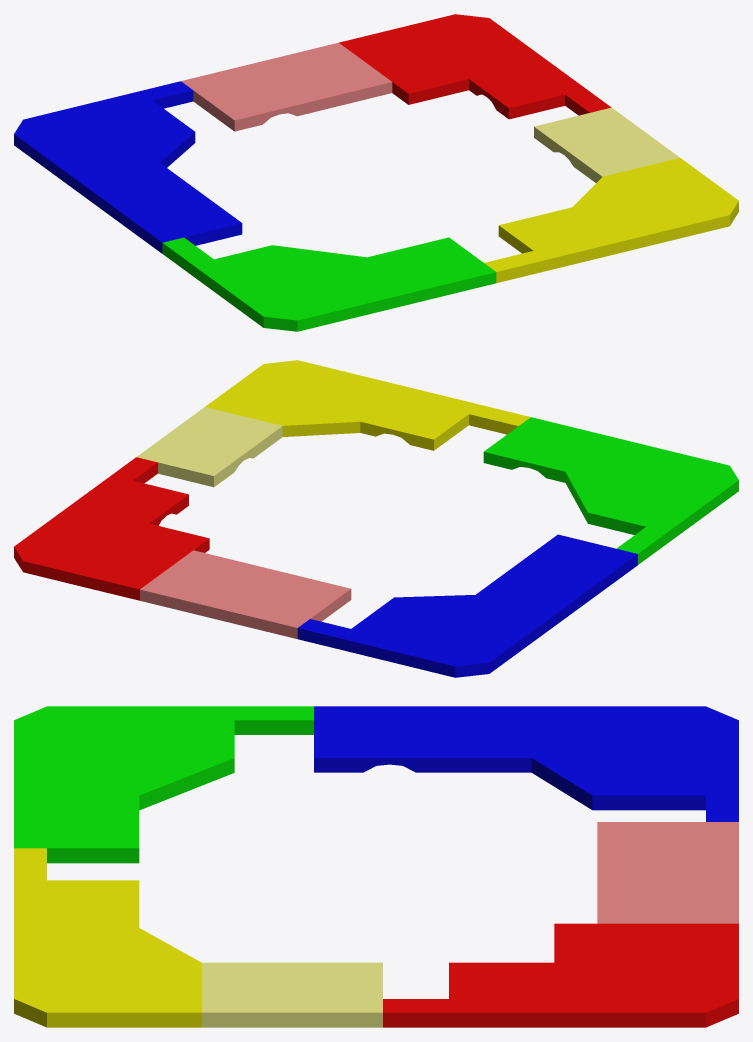
The model's file is CENARIO_TETO_01.fbx.
The picture shows the model from 3 angles, top to bottom: view 1: azimuth 30°, elevation 25°; view 2: azimuth 150°, elevation 25°; view 3: azimuth 270°, elevation 25°; orthographic projection. The views are drawn at different scales.
Visible parts, largest first — view 1: Teto_P4, Teto_P2, Teto_P1, Teto_P3, Teto_P3A, Teto_P1A; view 2: Teto_P4, Teto_P2, Teto_P3, Teto_P1, Teto_P3A, Teto_P1A; view 3: Teto_P4, Teto_P2, Teto_P3, Teto_P1, Teto_P3A, Teto_P1A.
Boxes of the visible parts, left/top/right/bottom form: Teto_P4: left=14, top=81, right=242, bottom=253; Teto_P2: left=162, top=237, right=496, bottom=331; Teto_P1: left=484, top=158, right=738, bottom=283; Teto_P3: left=339, top=14, right=611, bottom=119; Teto_P3A: left=181, top=42, right=392, bottom=131; Teto_P1A: left=534, top=107, right=679, bottom=182; Teto_P4: left=297, top=534, right=637, bottom=677; Teto_P2: left=483, top=417, right=738, bottom=564; Teto_P3: left=14, top=457, right=209, bottom=600; Teto_P1: left=205, top=360, right=530, bottom=450; Teto_P3A: left=140, top=550, right=351, bottom=638; Teto_P1A: left=136, top=407, right=282, bottom=487; Teto_P4: left=314, top=706, right=738, bottom=821; Teto_P2: left=14, top=706, right=313, bottom=863; Teto_P3: left=383, top=923, right=738, bottom=1027; Teto_P1: left=14, top=848, right=201, bottom=1027; Teto_P3A: left=597, top=822, right=738, bottom=923; Teto_P1A: left=202, top=962, right=382, bottom=1027.
Bounding box in the file's own units: 220 × 5.01 × 220.
